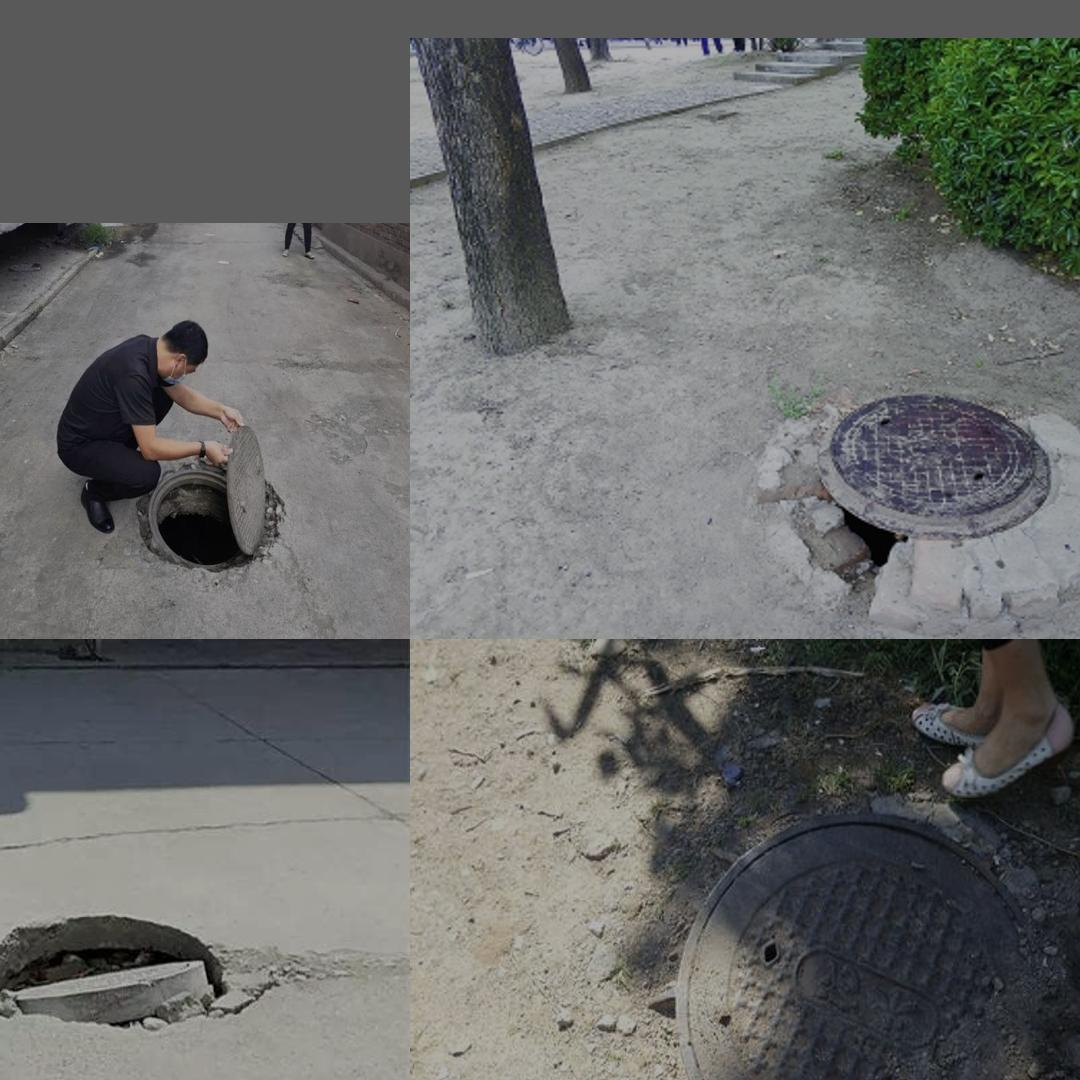circle: (581, 801, 1080, 1080), (736, 385, 1080, 610), (0, 898, 312, 1064), (108, 436, 297, 586)
